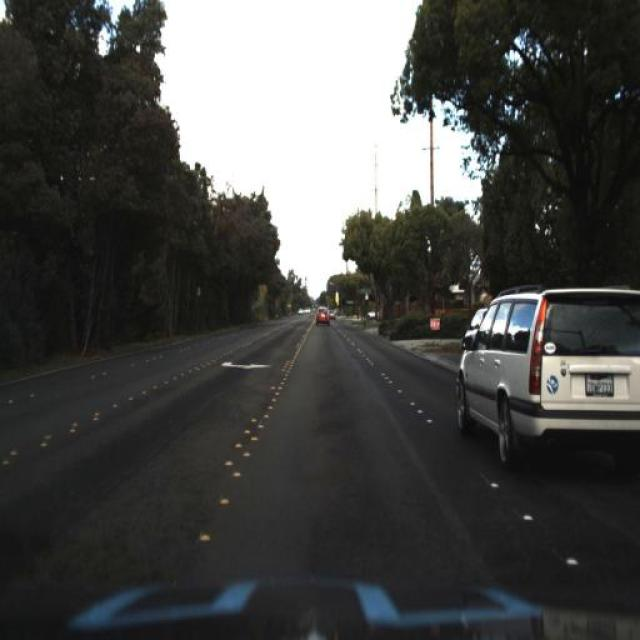car: (458, 266, 638, 476), (313, 296, 331, 330), (359, 302, 383, 326)
